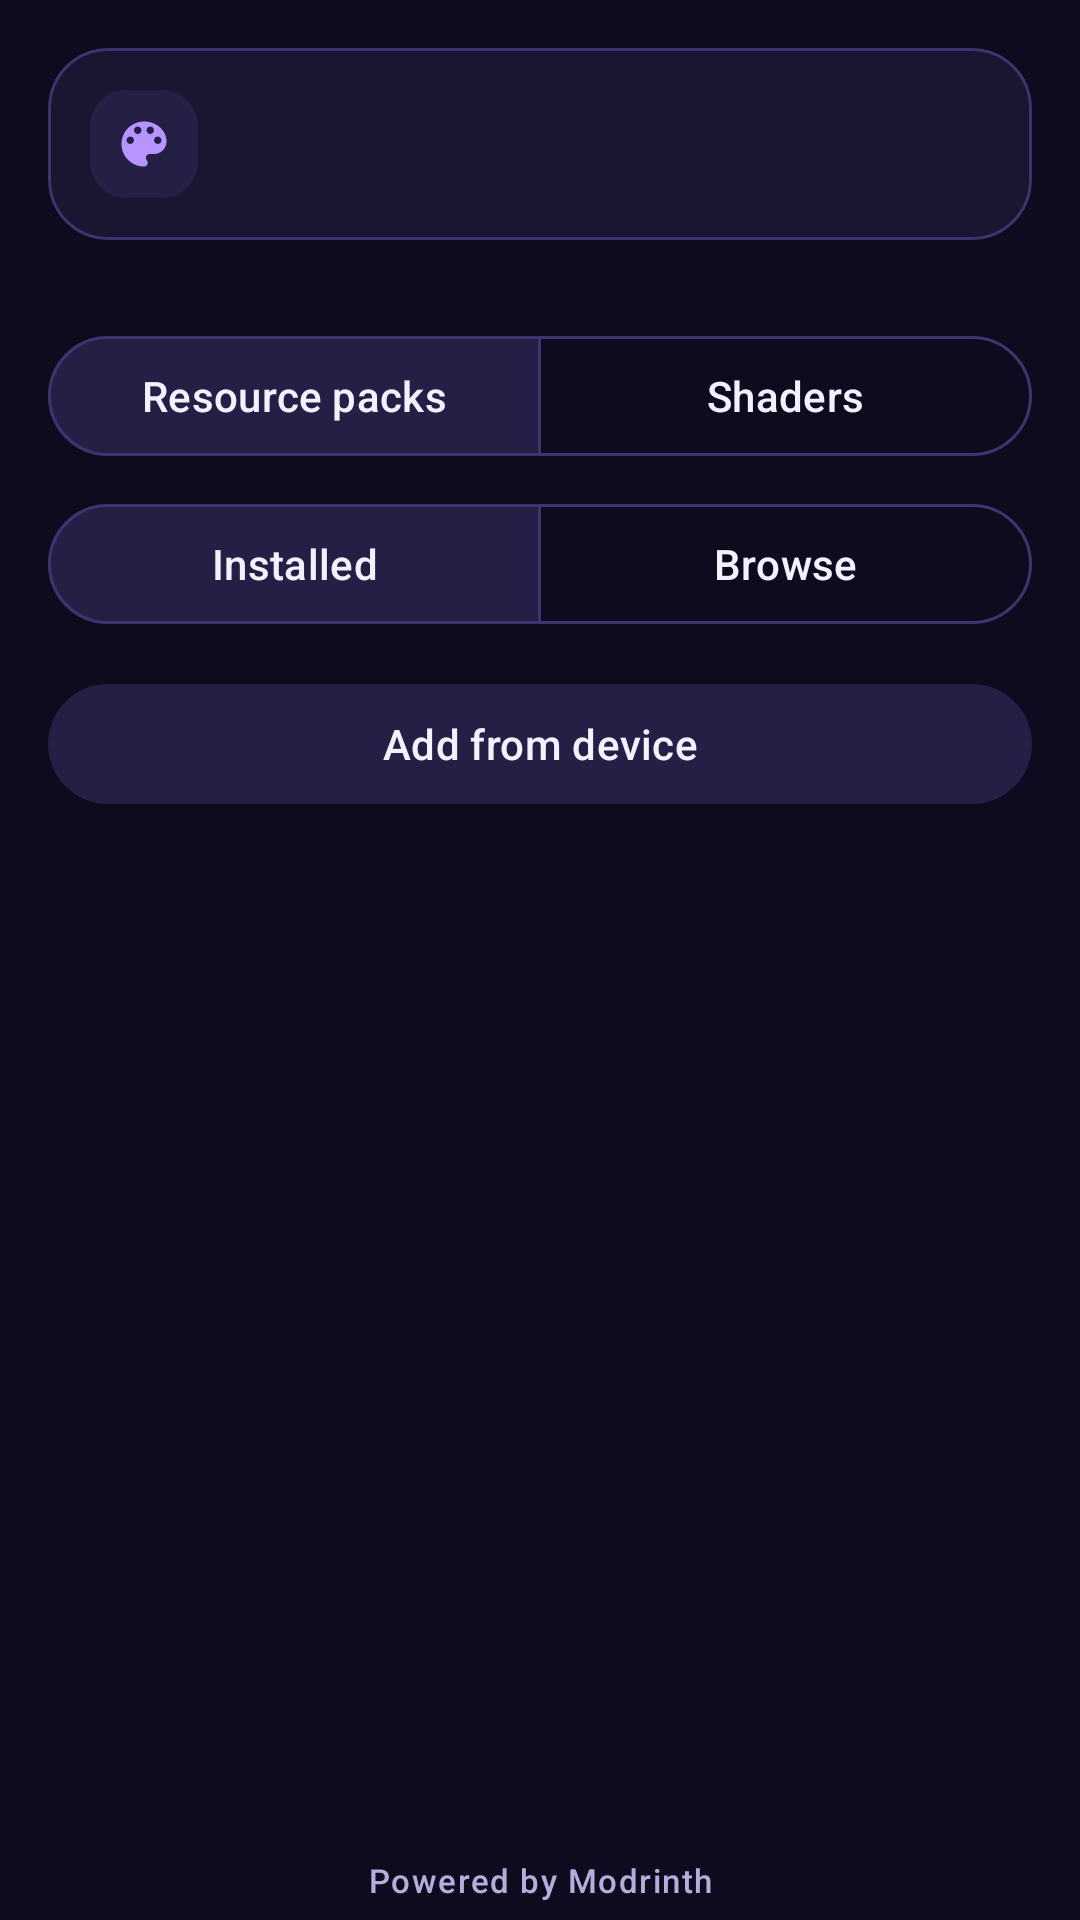

Screen size 1080 x 1920. Icon name, then its center in pixels as (x,y):
palette: (144,144)
